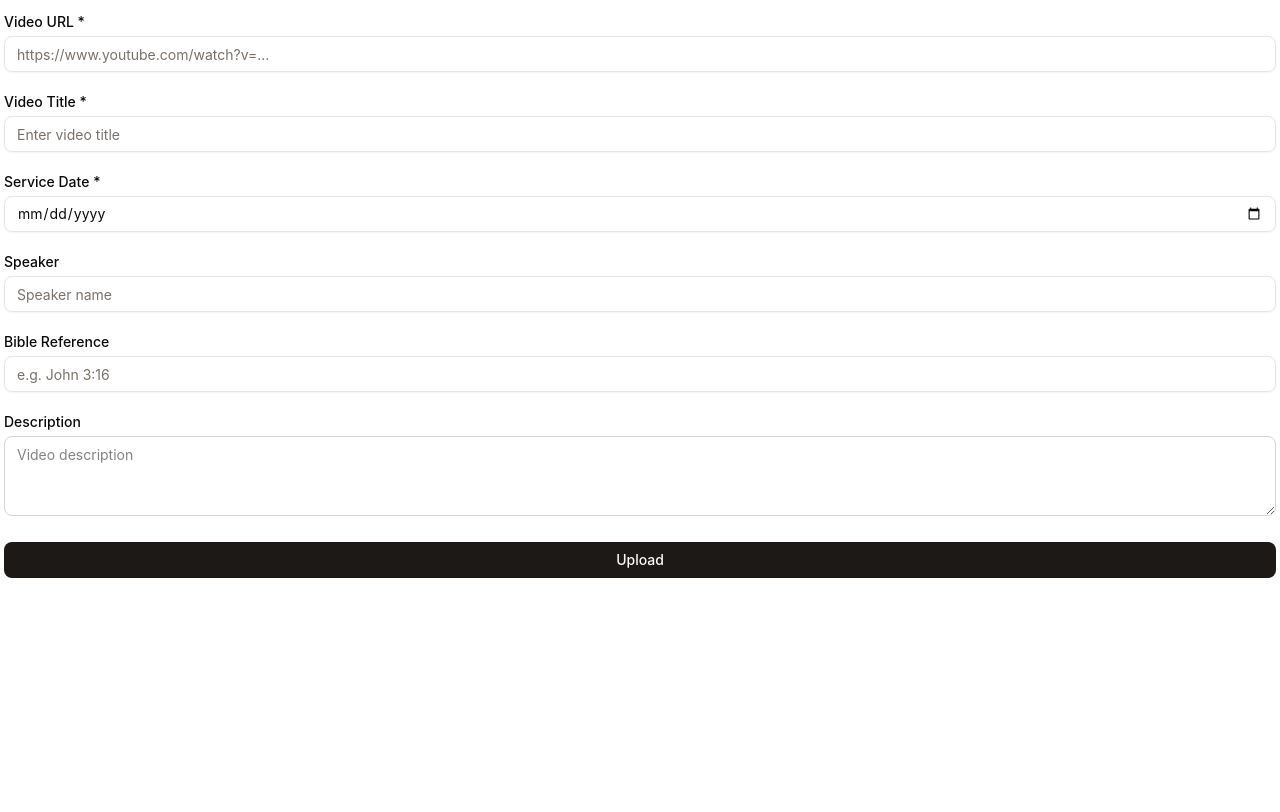
Test: UploadForm › shows error message on failure
Type "https://youtube.com/watch?v=test" into the field labelled "Video URL *" at (640, 54), box [4,36,1276,72]
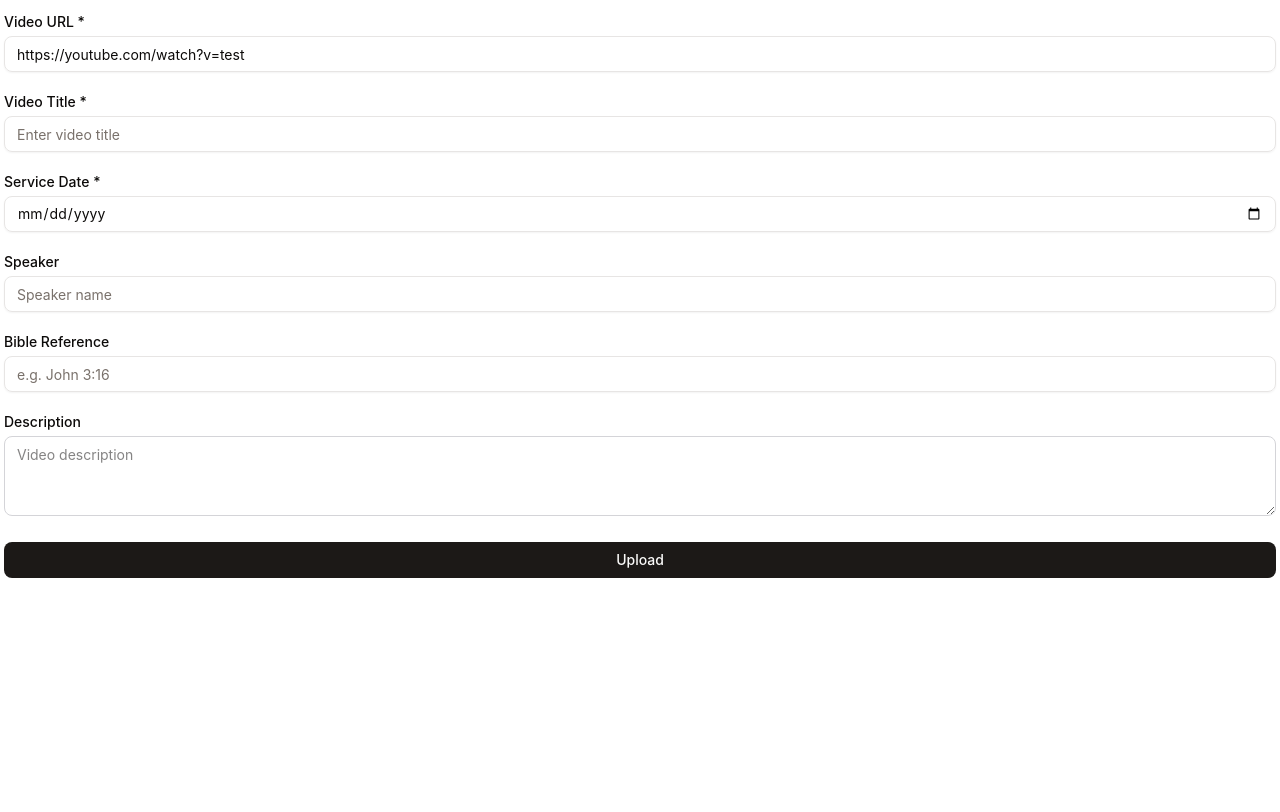
Type "Test Video" into the field labelled "Video Title *" at (640, 134), box [4,116,1276,152]
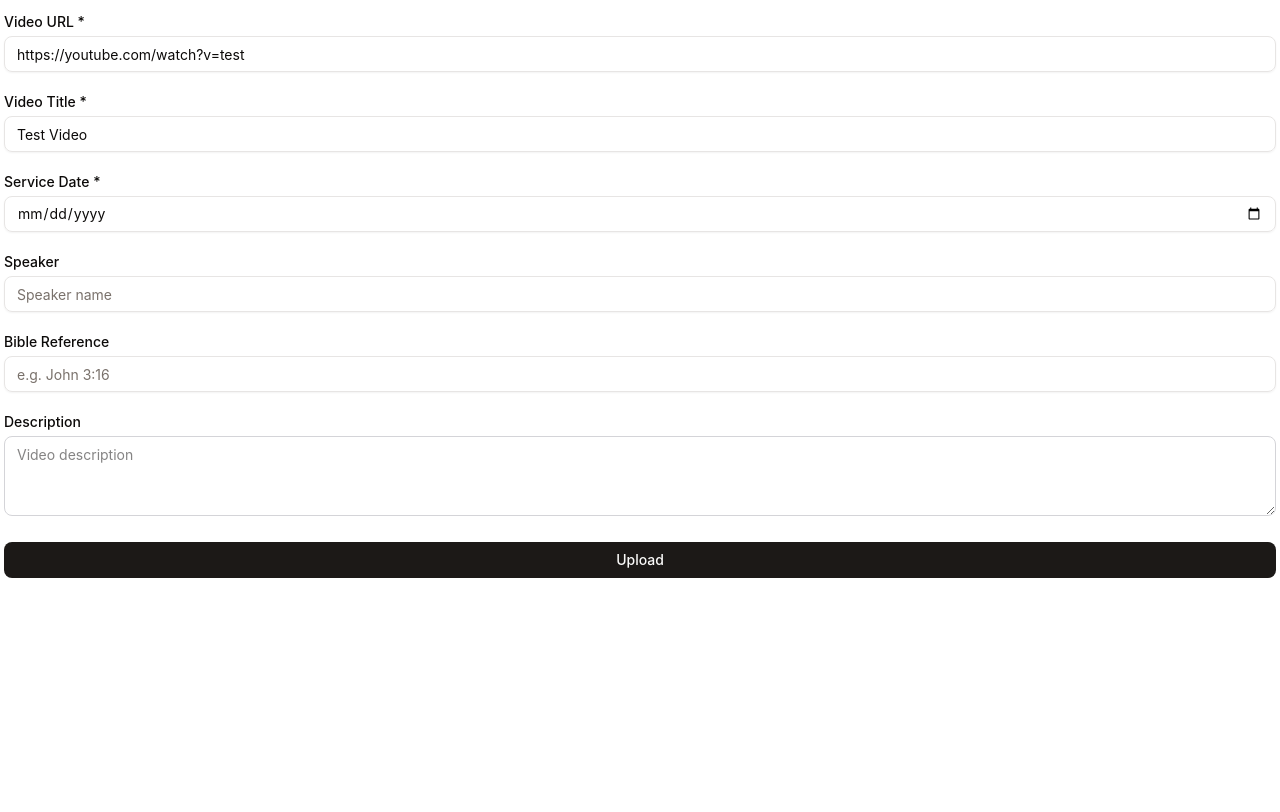
Type "2026-05-01" into the date field labelled "Service Date *" at (640, 214), box [4,196,1276,232]
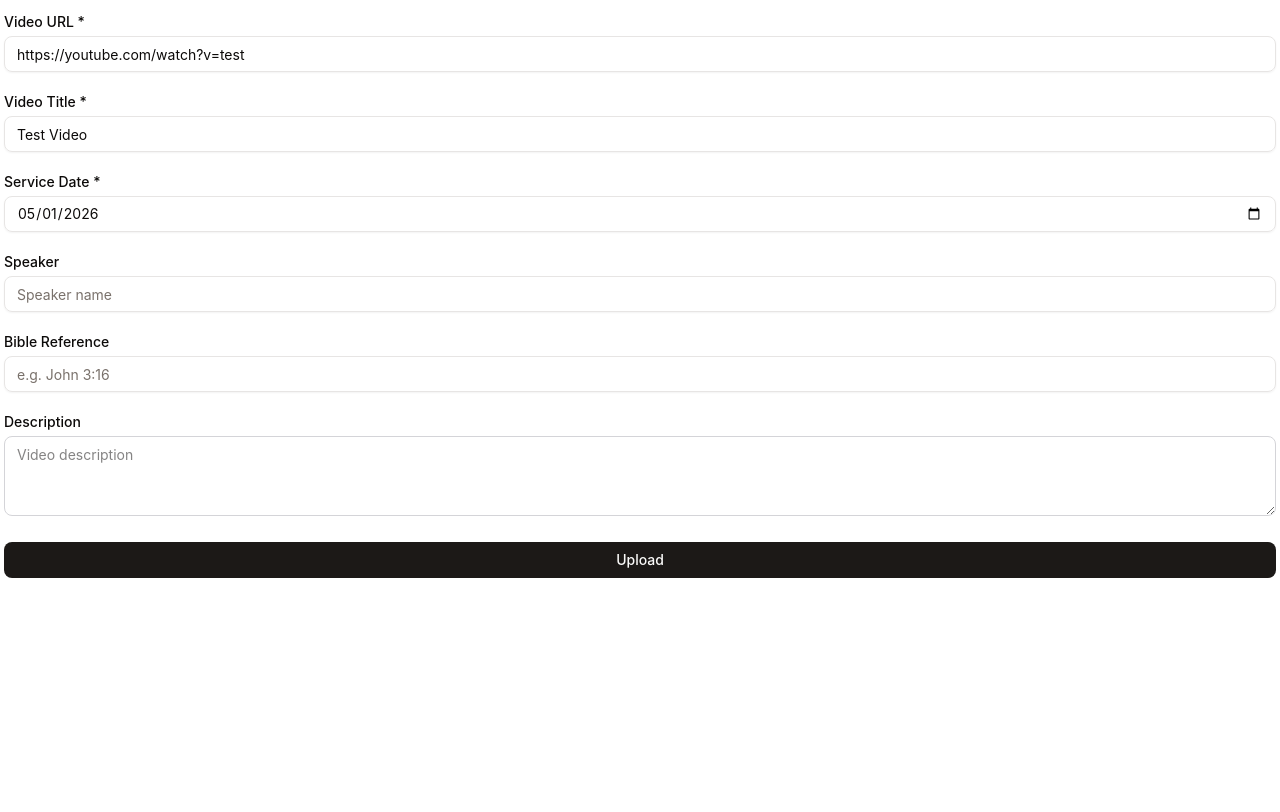
Click the button "Upload" at (640, 560), box [4,542,1276,578]
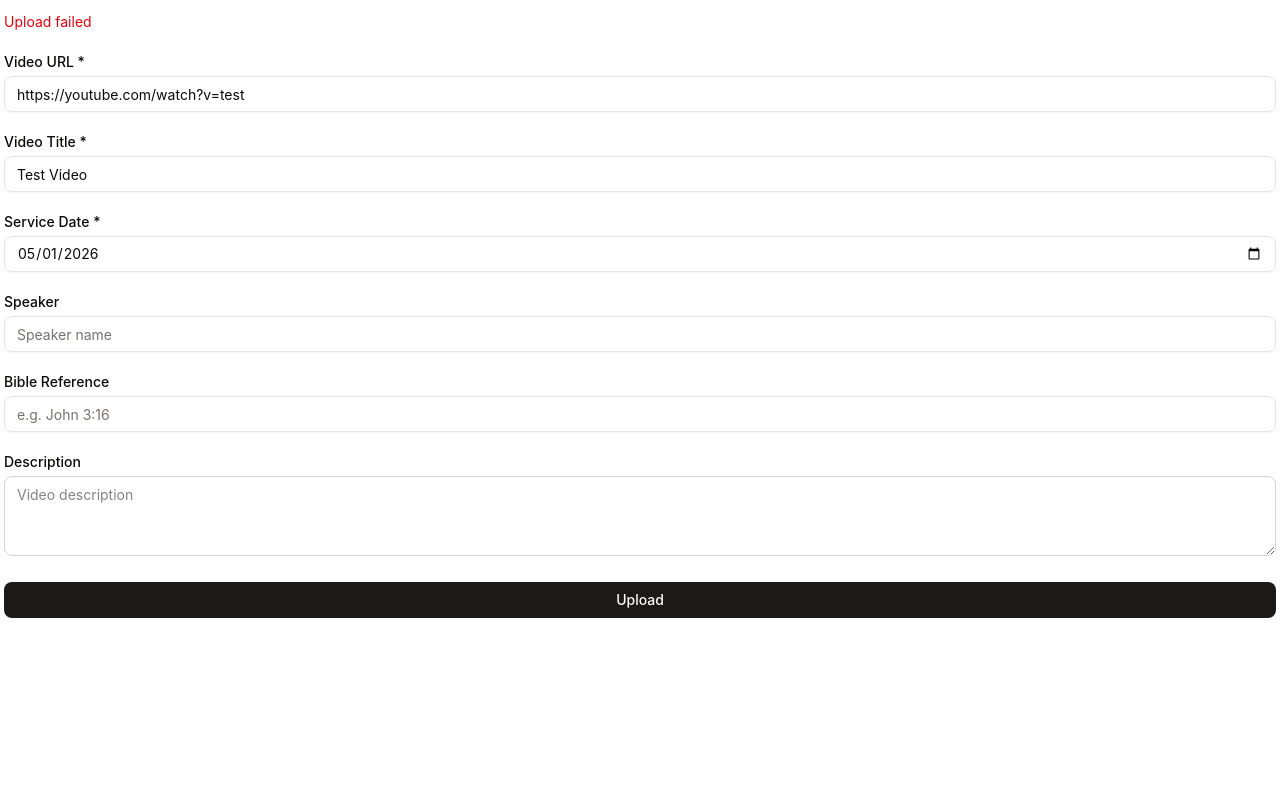
Result: the text "Upload failed" is shown at [4,13,92,30]
